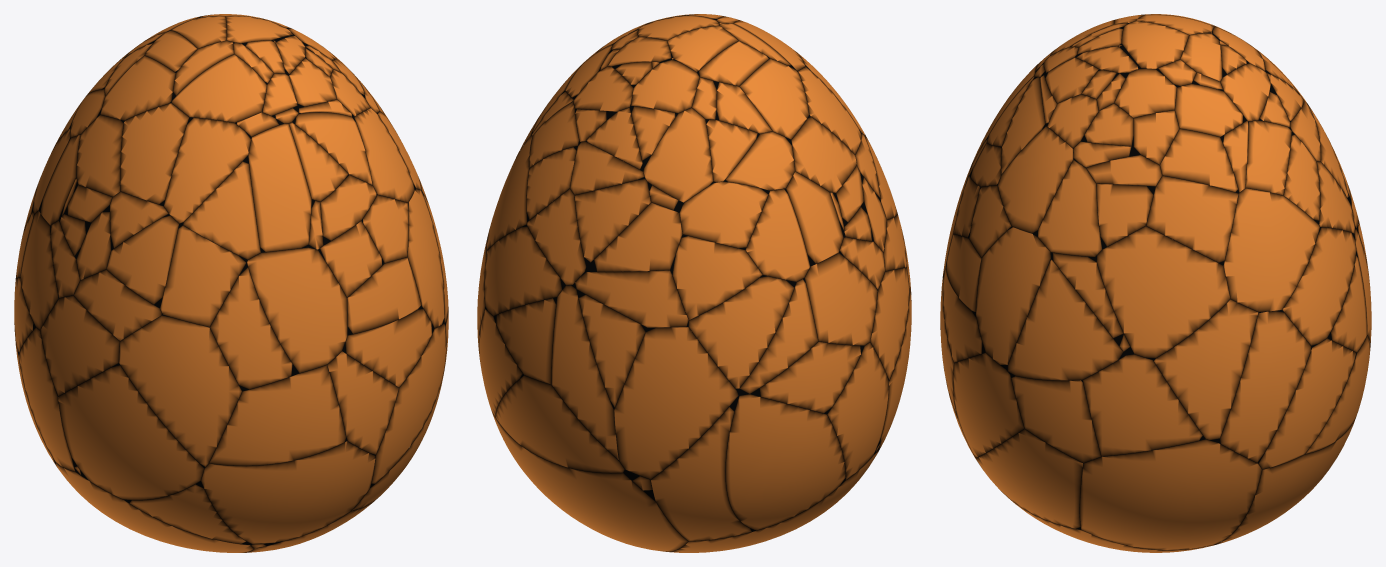
File: egg-full.glb
The picture shows the model from 3 angles, left to right: view 1: azimuth 30°, elevation 25°; view 2: azimuth 150°, elevation 25°; view 3: azimuth 270°, elevation 25°; orthographic projection.
Visible parts, largest first — view 1: Cube_fracturepart140, Cube_fracturepart122, Cube_fracturepart50, Cube_fracturepart203, Cube_fracturepart66, Cube_fracturepart86, Cube_fracturepart12, Cube_fracturepart40, Cube_fracturepart151, Cube_fracturepart162, Cube_fracturepart73, Cube_fracturepart32 (+45 smaller); view 2: Cube_fracturepart110, Cube_fracturepart201, Cube_fracturepart185, Cube_fracturepart11, Cube_fracturepart1, Cube_fracturepart45, Cube_fracturepart8, Cube_fracturepart191, Cube_fracturepart131, Cube_fracturepart125, Cube_fracturepart23, Cube_fracturepart205 (+47 smaller); view 3: Cube_fracturepart173, Cube_fracturepart127, Cube_fracturepart104, Cube_fracturepart192, Cube_fracturepart97, Cube_fracturepart99, Cube_fracturepart84, Cube_fracturepart78, Cube_fracturepart183, Cube_fracturepart79, Cube_fracturepart146, Cube_fracturepart32 (+47 smaller).
Part boxes in pixels (x1,y1,x2,y2): Cube_fracturepart140: (58, 363, 204, 500); Cube_fracturepart122: (201, 441, 375, 544); Cube_fracturepart50: (119, 315, 242, 467); Cube_fracturepart203: (209, 365, 346, 465); Cube_fracturepart66: (247, 247, 347, 373); Cube_fracturepart86: (248, 123, 311, 252); Cube_fracturepart12: (210, 262, 299, 391); Cube_fracturepart40: (160, 224, 247, 327); Cube_fracturepart151: (164, 117, 251, 224); Cube_fracturepart162: (40, 295, 119, 396); Cube_fracturepart73: (120, 103, 189, 205); Cube_fracturepart32: (370, 323, 446, 487); Cube_fracturepart110: (725, 394, 845, 530); Cube_fracturepart201: (614, 327, 738, 479); Cube_fracturepart185: (491, 411, 688, 551); Cube_fracturepart11: (651, 395, 755, 541); Cube_fracturepart1: (495, 375, 624, 472); Cube_fracturepart45: (688, 275, 796, 390); Cube_fracturepart8: (551, 285, 618, 460); Cube_fracturepart191: (804, 253, 877, 345); Cube_fracturepart131: (827, 342, 888, 479); Cube_fracturepart125: (672, 234, 762, 320); Cube_fracturepart23: (484, 225, 565, 316); Cube_fracturepart205: (573, 270, 688, 327); Cube_fracturepart173: (1079, 439, 1261, 550); Cube_fracturepart127: (1095, 226, 1230, 359); Cube_fracturepart104: (1223, 188, 1319, 312); Cube_fracturepart192: (1082, 354, 1205, 456); Cube_fracturepart97: (1006, 259, 1125, 380); Cube_fracturepart99: (1153, 299, 1258, 442); Cube_fracturepart84: (1218, 310, 1312, 463); Cube_fracturepart78: (975, 227, 1050, 368); Cube_fracturepart183: (976, 429, 1083, 529); Cube_fracturepart79: (1258, 338, 1356, 469); Cube_fracturepart146: (1146, 175, 1238, 265); Cube_fracturepart32: (953, 352, 1024, 457).
Bounding box in the file's own units: 0.7049 × 0.9147 × 0.7078.
